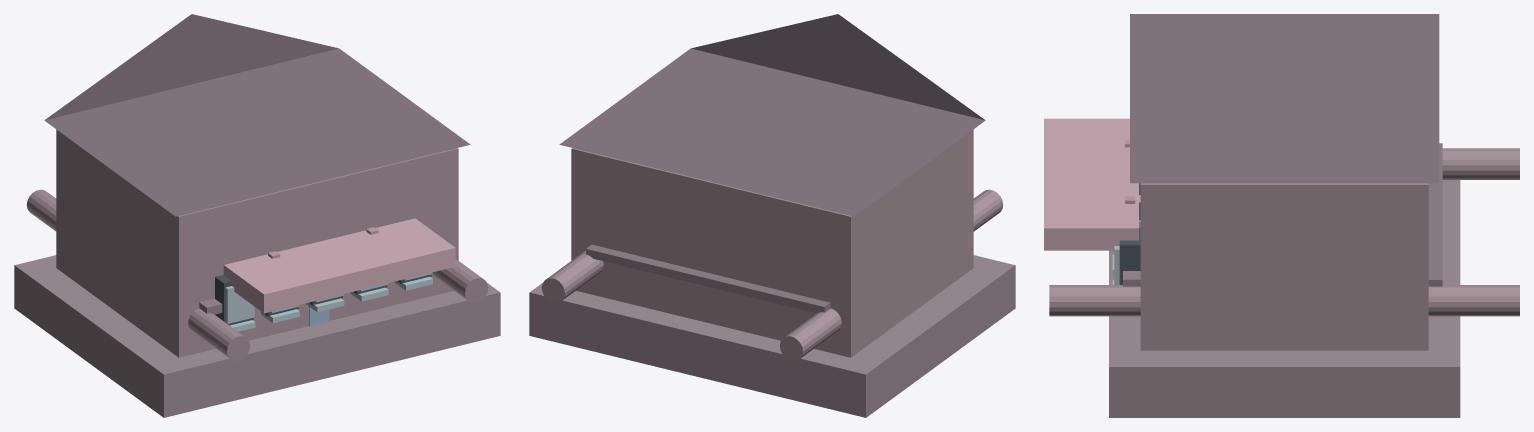
File: clothing_store.glb
3 views of the same model, side by side, from view 1: azimuth 30°, elevation 25°; view 2: azimuth 150°, elevation 25°; view 3: azimuth 270°, elevation 25° (orthographic). The views are drawn at different scales.
Parts seen in each view (by area): view 1: world; view 2: world; view 3: world.
Part boxes in pixels (x1=…): world: x1=14, y1=14, x2=500, y2=417; world: x1=529, y1=14, x2=1015, y2=417; world: x1=1044, y1=14, x2=1519, y2=417.
Size of the model in its own units: 1.3 by 1.01 by 1.35.
